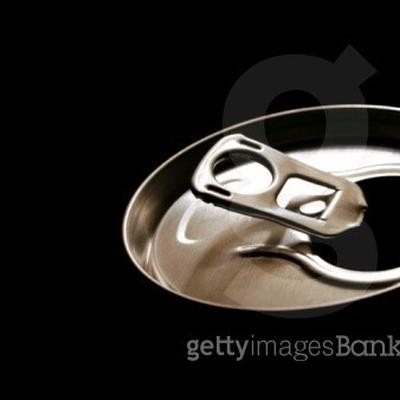beer: (105, 101, 400, 320)
